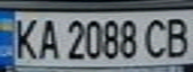0: (81, 17, 106, 61)
2: (63, 16, 87, 61)
8: (118, 16, 142, 61), (103, 17, 121, 61)
A: (33, 15, 60, 61)
B: (160, 13, 193, 60)
C: (139, 16, 172, 60)
K: (9, 15, 42, 61)
